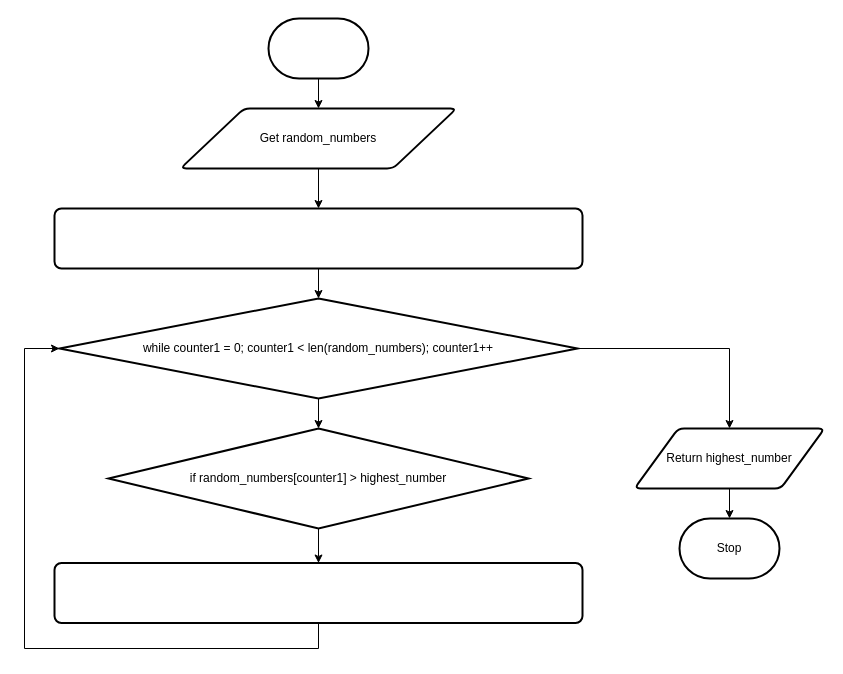
This 843x674 diagram has some shape labels left out. Each missing label, with the centre of its shape:
"highest_number = random_numbers[counter1]" goes at (x=318, y=593).
"set highest_number = random_numbers[0]" goes at (x=318, y=238).
"Start" goes at (x=318, y=48).
